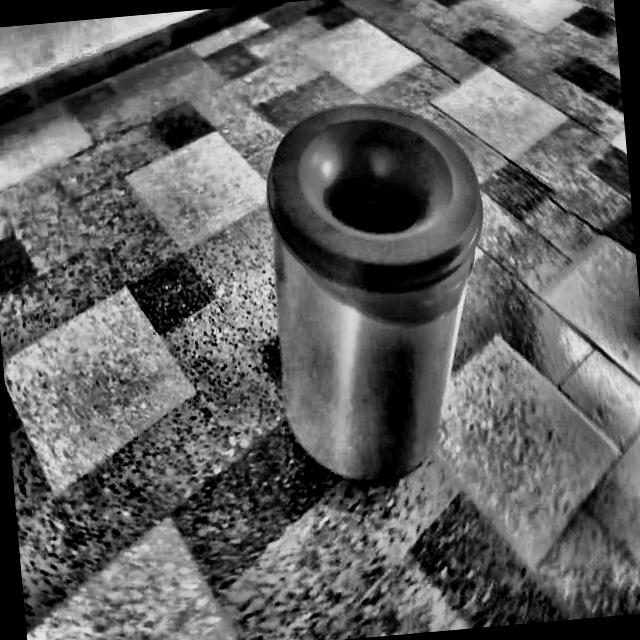Dustbin: (226, 71, 514, 503)
